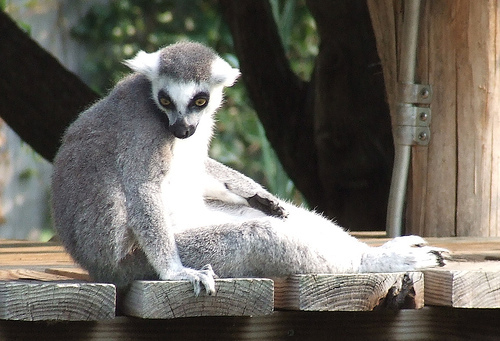cat: (50, 41, 448, 296)
